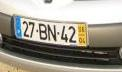2: (68, 26, 77, 44), (23, 20, 29, 38)
4: (60, 24, 69, 44)
7: (28, 21, 35, 38)
B: (39, 23, 48, 40)
N: (47, 24, 57, 42)
